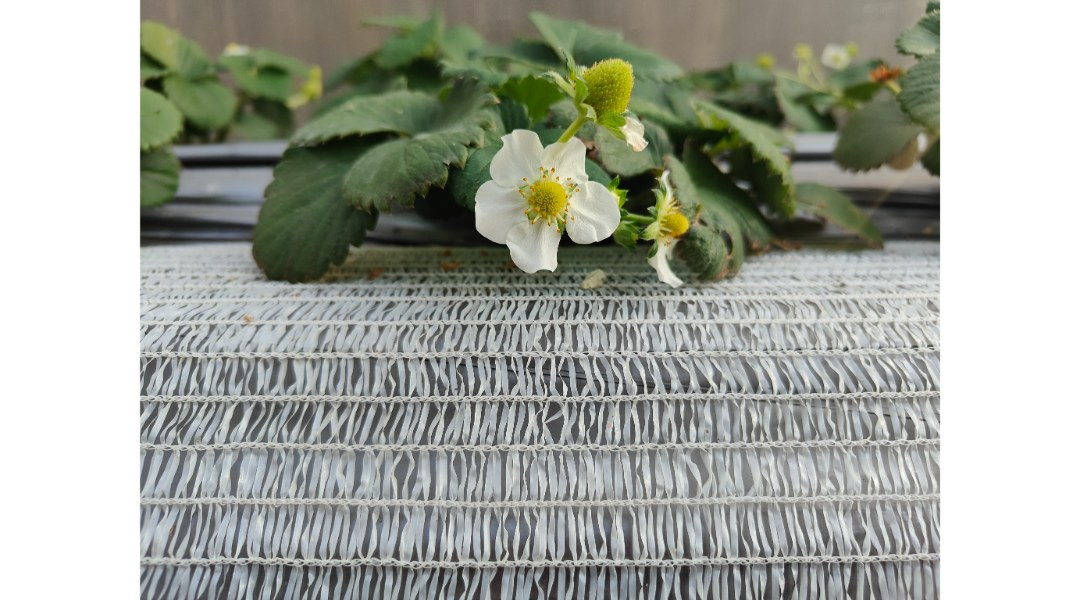berry: (556, 51, 646, 137)
flower: (463, 127, 618, 290), (649, 154, 692, 298)
